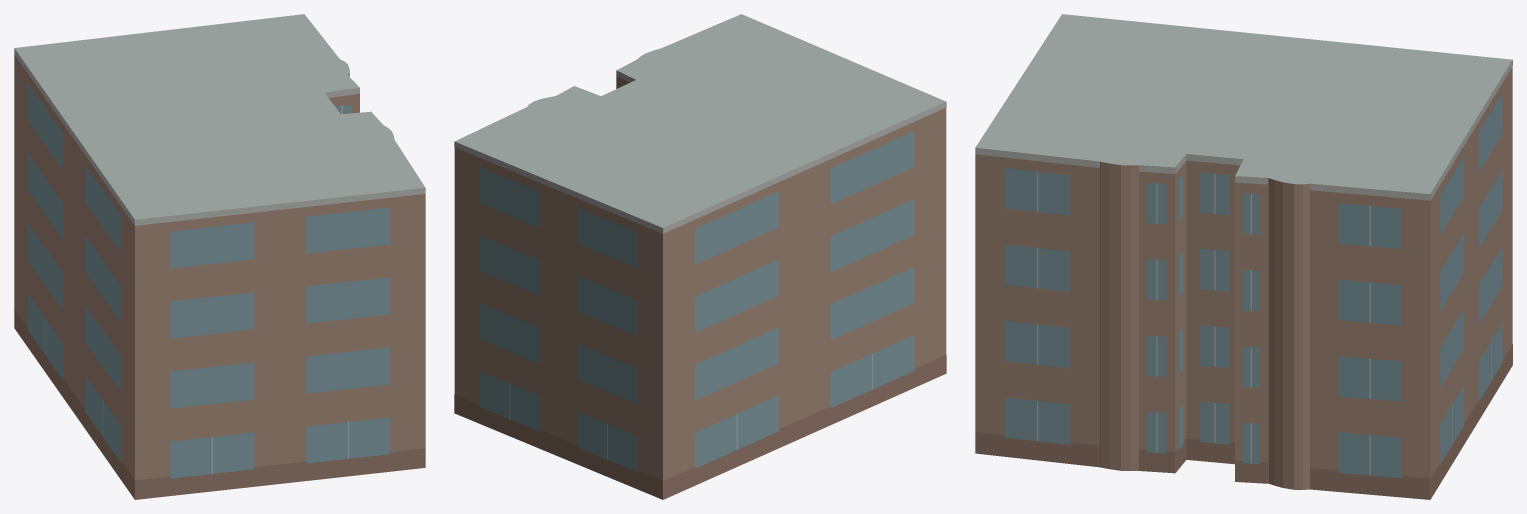
File: survey-upis-32973307.glb
3 views of the same model, side by side, from view 1: azimuth 30°, elevation 25°; view 2: azimuth 150°, elevation 25°; view 3: azimuth 270°, elevation 25° (orthographic). The views are drawn at different scales.
Parts seen in each view (by area): view 1: survey-upis-32973307.tmp; view 2: survey-upis-32973307.tmp; view 3: survey-upis-32973307.tmp.
Boxes of the visible parts, bbox=[...] form: survey-upis-32973307.tmp: bbox=[14, 14, 425, 499]; survey-upis-32973307.tmp: bbox=[454, 14, 946, 499]; survey-upis-32973307.tmp: bbox=[975, 14, 1512, 499].
Bounding box in the file's own units: 14.42 × 11.4 × 18.17.
